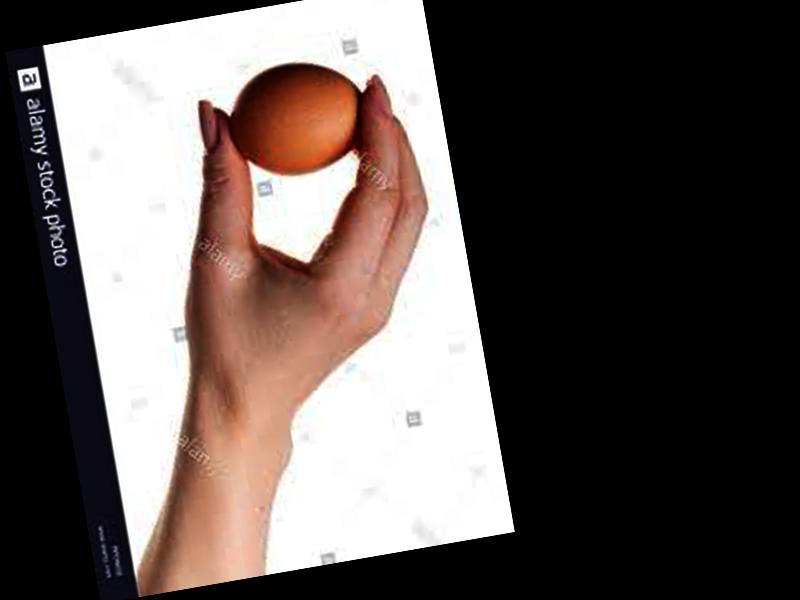Eggs: (224, 54, 373, 187)
